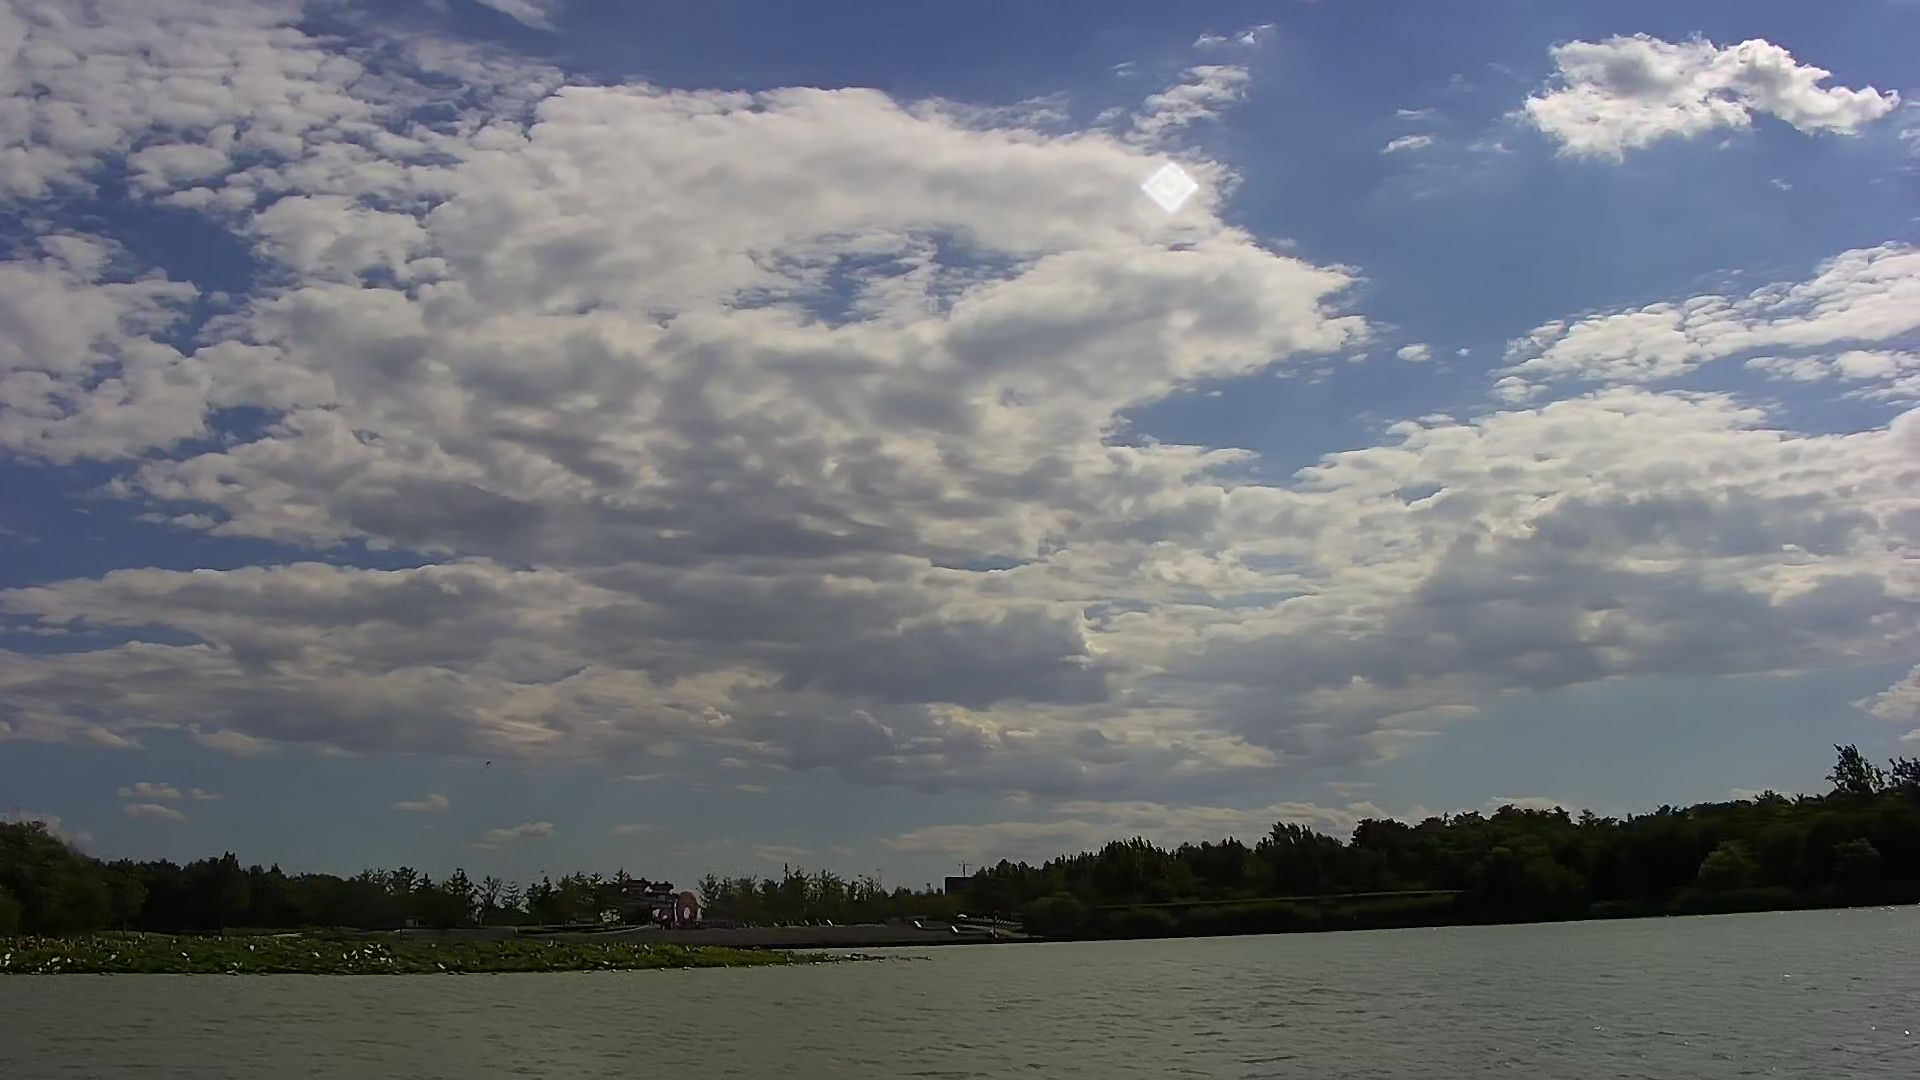grass: (7, 931, 911, 976)
